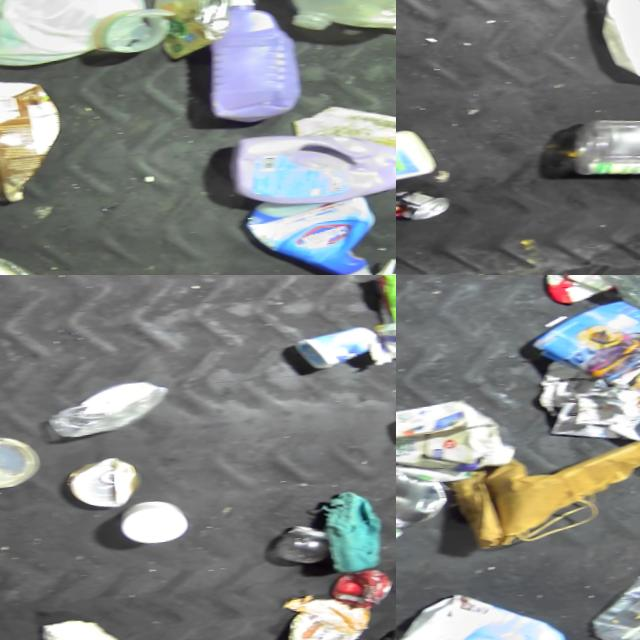can: (56, 450, 144, 513), (317, 561, 396, 611), (162, 0, 234, 52), (396, 181, 455, 226)
milk_jug: (0, 0, 167, 73), (383, 366, 396, 452)
non_white_jug: (220, 120, 396, 209), (199, 0, 302, 123), (396, 576, 579, 640), (246, 194, 376, 275)
plastic_bottle: (0, 228, 79, 275)
